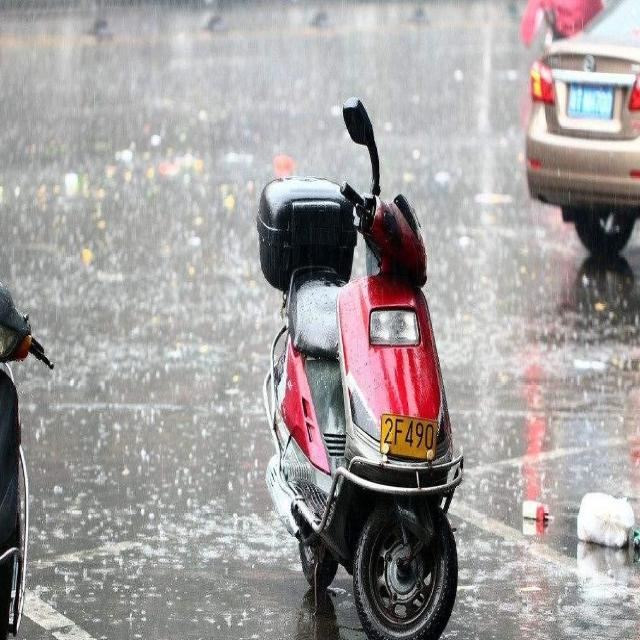car: (524, 0, 640, 259)
